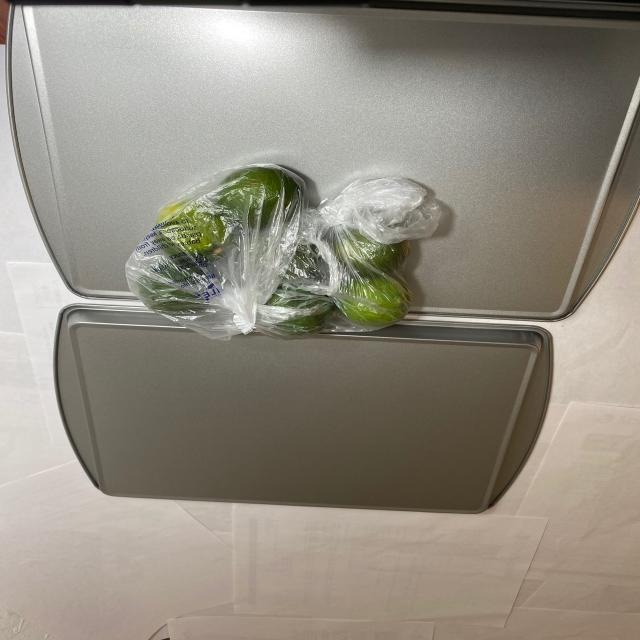lemon: (140, 172, 423, 336)
